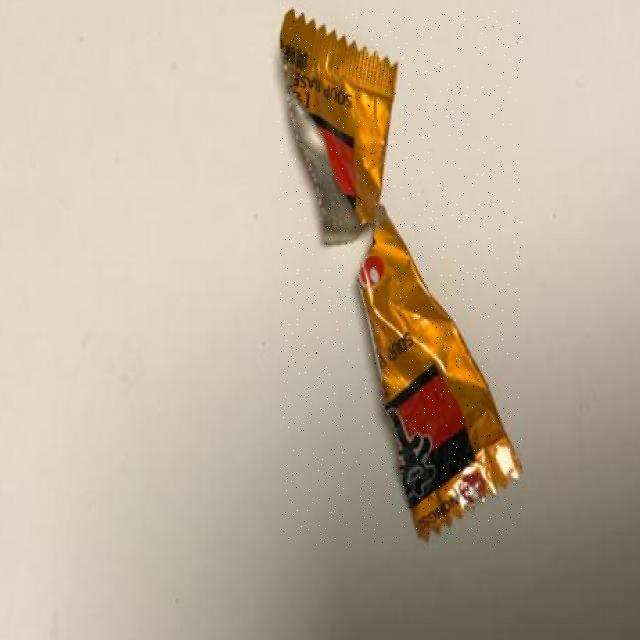wrapper: (279, 11, 522, 545)
